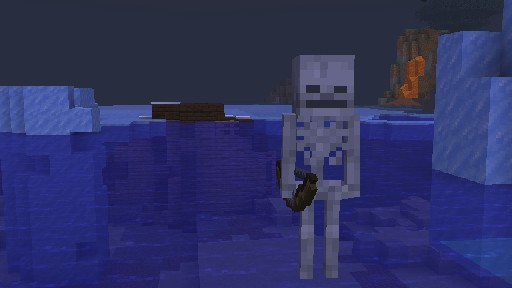skeleton: (275, 54, 360, 278)
